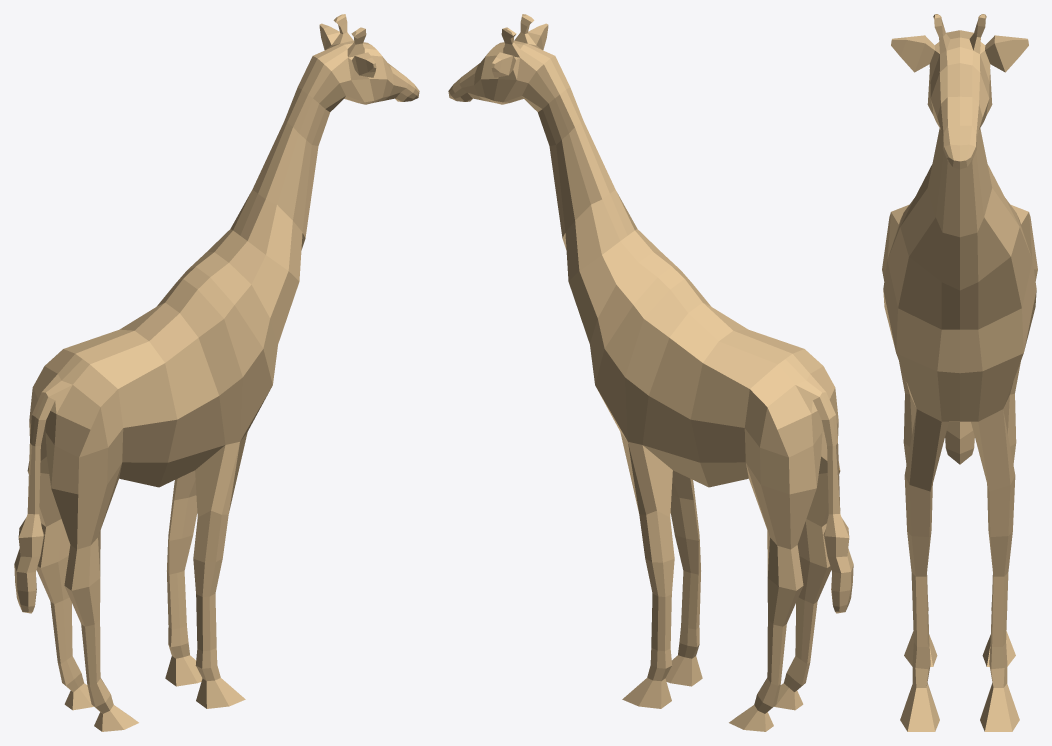
File: giraffe.fbx
3 renders of one model, left to right at view 1: azimuth 30°, elevation 25°; view 2: azimuth 150°, elevation 25°; view 3: azimuth 270°, elevation 25°, orthographic. The views are drawn at different scales.
Visible parts, largest first — view 1: 2; view 2: 2; view 3: 2.
Boxes of the visible parts, box(x1,y1,x2,y2) form: 2: box(14, 14, 419, 731); 2: box(448, 14, 853, 731); 2: box(882, 14, 1037, 731).
Size of the model in its own units: 145 by 218 by 38.83.
